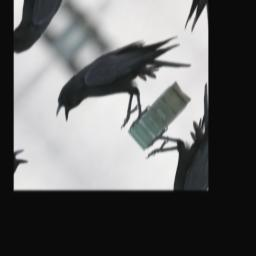Crow: (46, 0, 198, 165)
